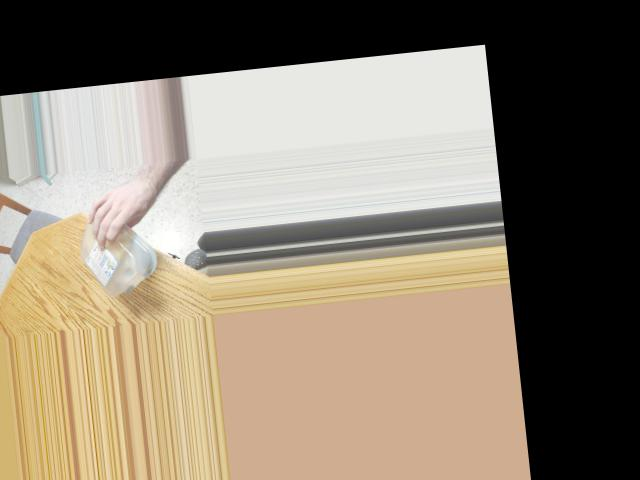cheese: (74, 198, 155, 301)
